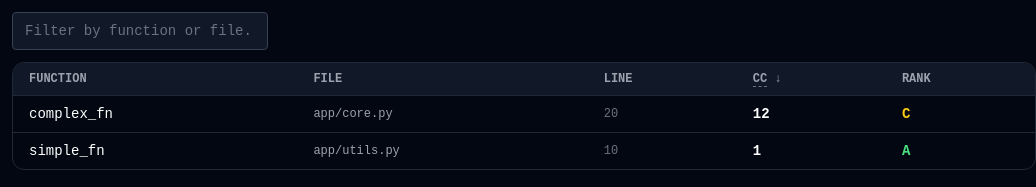
ComplexityTable › filters by file path
The width and height of the screenshot is (1036, 187).
Type "utils" into the field with placeholder "Filter by function or file...". click: (140, 31)
box: 12,12 -> 268,50
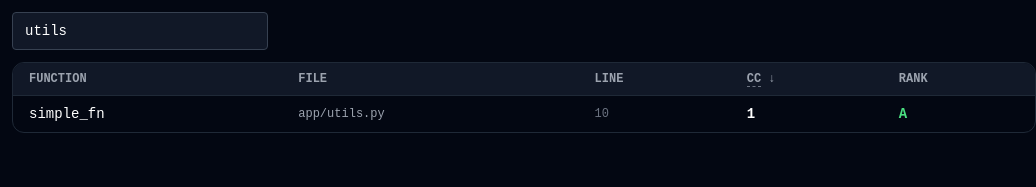
expect the text "simple_fn" is shown: met, box 13,96 -> 282,132
expect the text "complex_fn" is gone: met
